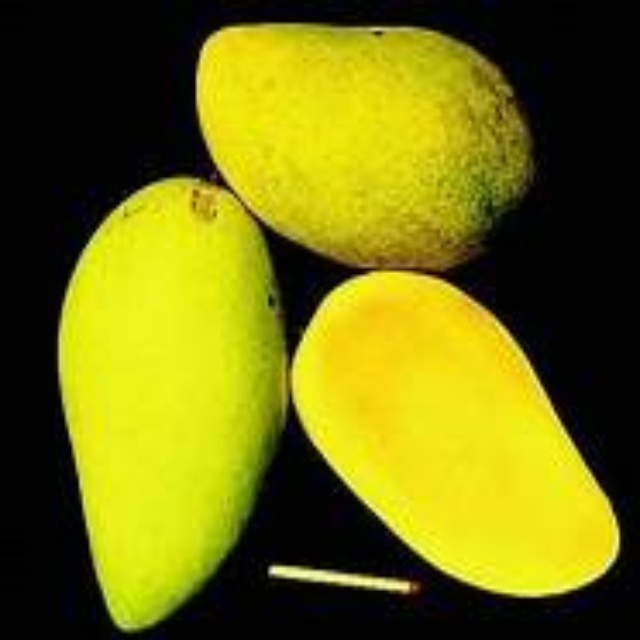mango: (293, 263, 621, 593), (53, 175, 283, 627), (198, 23, 535, 278)
